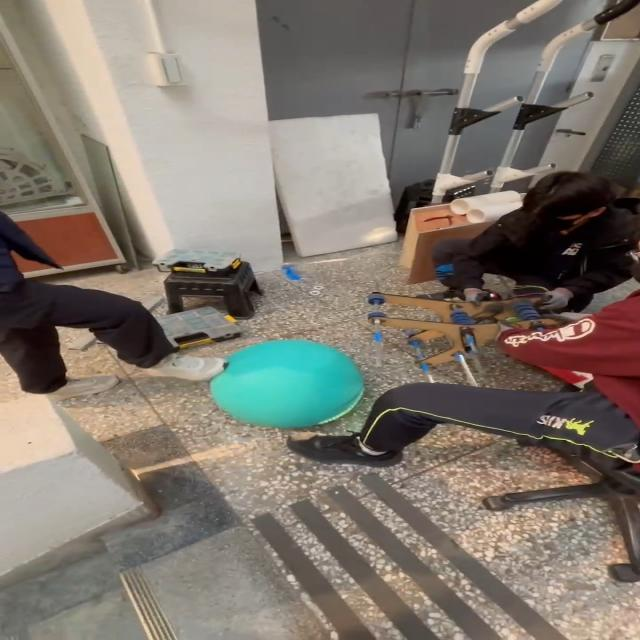ALGAE: (207, 338, 366, 429)
